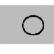no answer: (21, 14, 46, 36)
